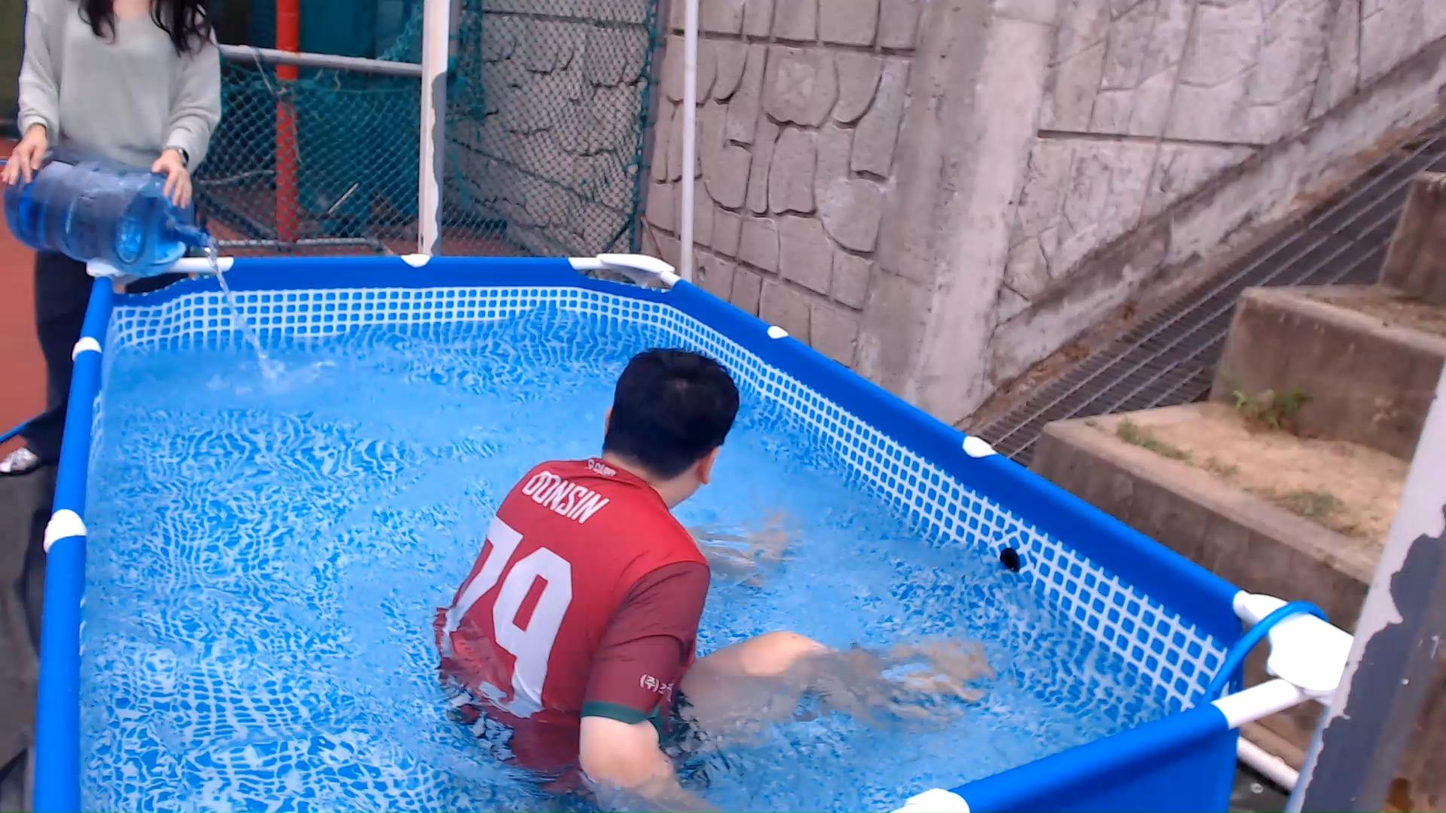Swimming: (427, 280, 1008, 813)
